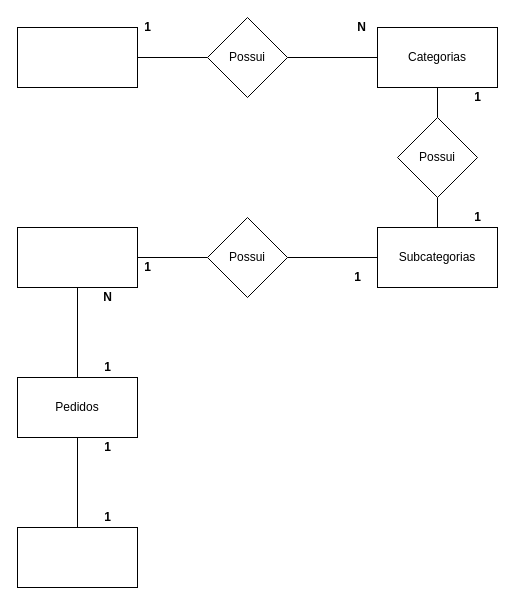
This 515x605 diagram has some shape labels left out. The shapes that lost their labels are listed below. From the top down, each one's centre as x and y in pixels, then its label:
At [77,57]: "Lojas SenaiShop".
At [77,257]: "Produtos".
At [77,557]: "Cliente".
